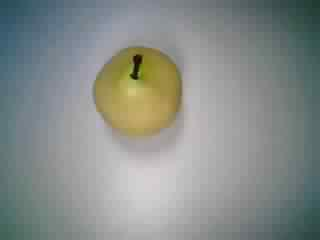pear: (83, 39, 188, 142)
